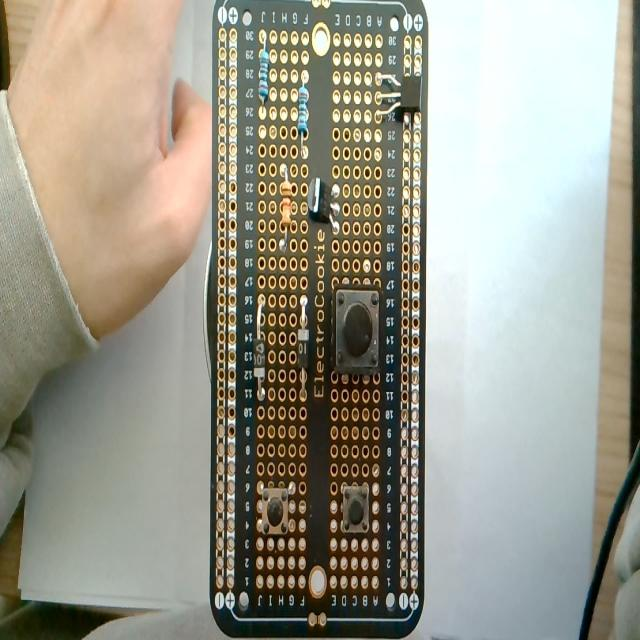diode: (254, 297, 266, 400), (298, 294, 309, 398)
resistor: (256, 27, 272, 122), (278, 168, 294, 252), (297, 82, 309, 159)
switch: (331, 286, 380, 376), (260, 483, 290, 536), (341, 483, 368, 534)
transistor: (377, 68, 424, 125), (303, 170, 338, 224)
